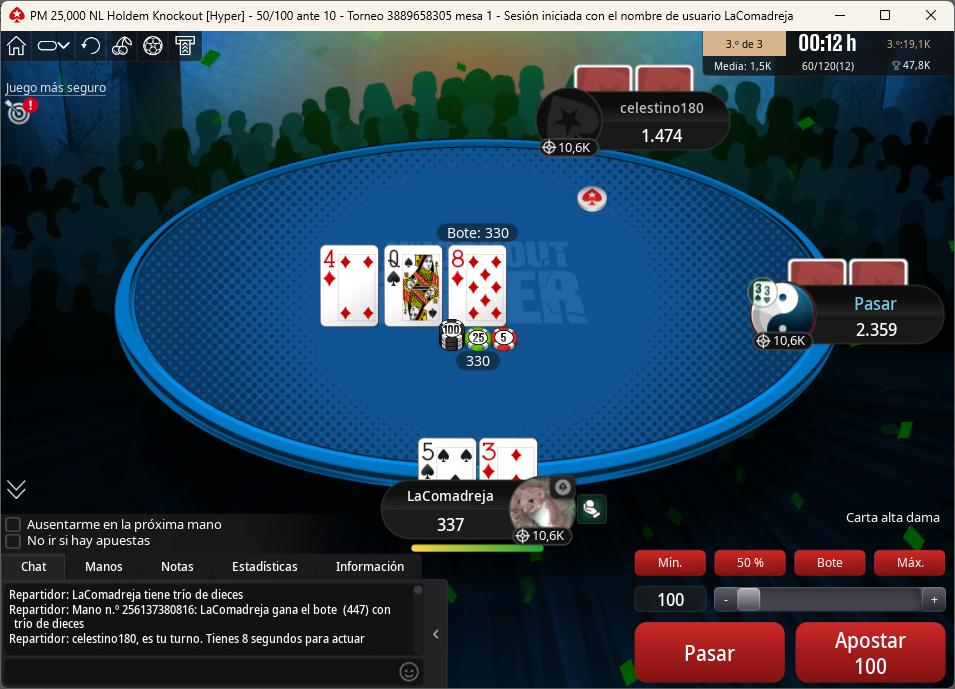ButtonCall: (621, 615, 782, 686)
ButtonMaxRaise: (871, 547, 950, 578)
ButtonMinRaise: (634, 549, 712, 581)
ButtonPotRaise: (791, 545, 869, 580)
ButtonRaise: (792, 619, 949, 685)
Dealer: (568, 185, 619, 219)
HiddenCards: (575, 68, 704, 97), (783, 259, 912, 287)
Player: (746, 283, 950, 351), (544, 94, 735, 161)
PlayerChips: (851, 322, 907, 342)
Pot: (435, 225, 522, 244)
PrincipalCards: (412, 439, 542, 484)
PrincipalCards1: (415, 436, 478, 482)
PrincipalCards2: (480, 436, 542, 482)
PrincipalPlayer: (382, 477, 586, 552)
PrincipalPlayerChips: (429, 518, 477, 538)
ShowedCards: (321, 239, 519, 333)
ShowedCards1: (318, 245, 384, 331)
ShowedCards2: (383, 246, 446, 329)
ShowedCards3: (446, 247, 511, 331)
SmallBigBlind: (247, 3, 346, 30)
TablePot: (426, 323, 526, 382)
